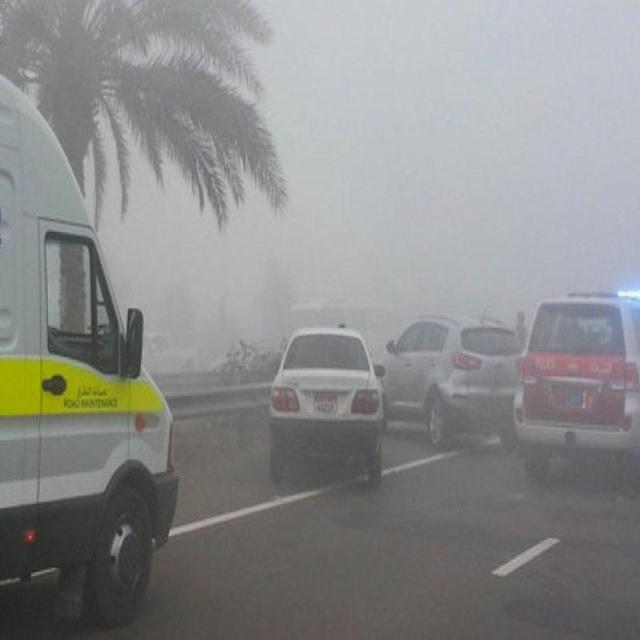Car: (266, 318, 386, 496), (383, 317, 522, 453)
Truck: (0, 65, 180, 622)
